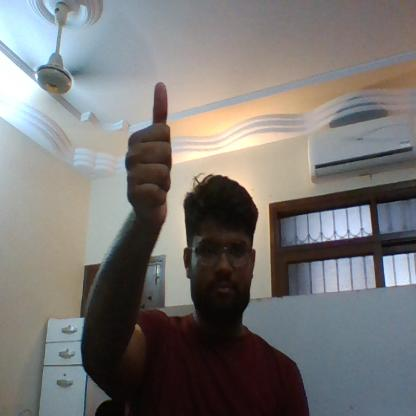thumbs-up: (118, 81, 176, 202)
